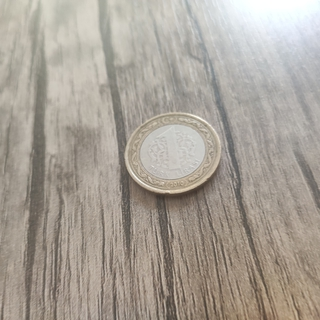1TL: (122, 111, 223, 196)
